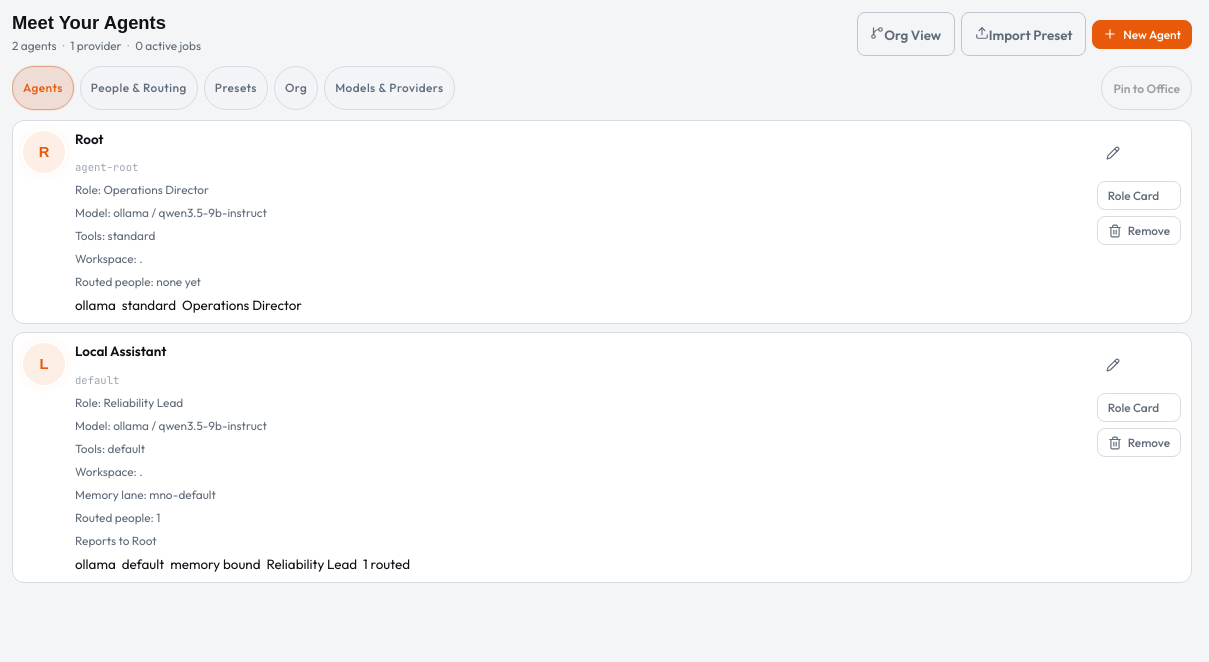
Test: TeamPage Trenches parity › stops removal before the agent changes when routing cannot be read
Click the 1st button "Remove". click: (1139, 230)
box: left=1097, top=216, right=1181, bottom=245
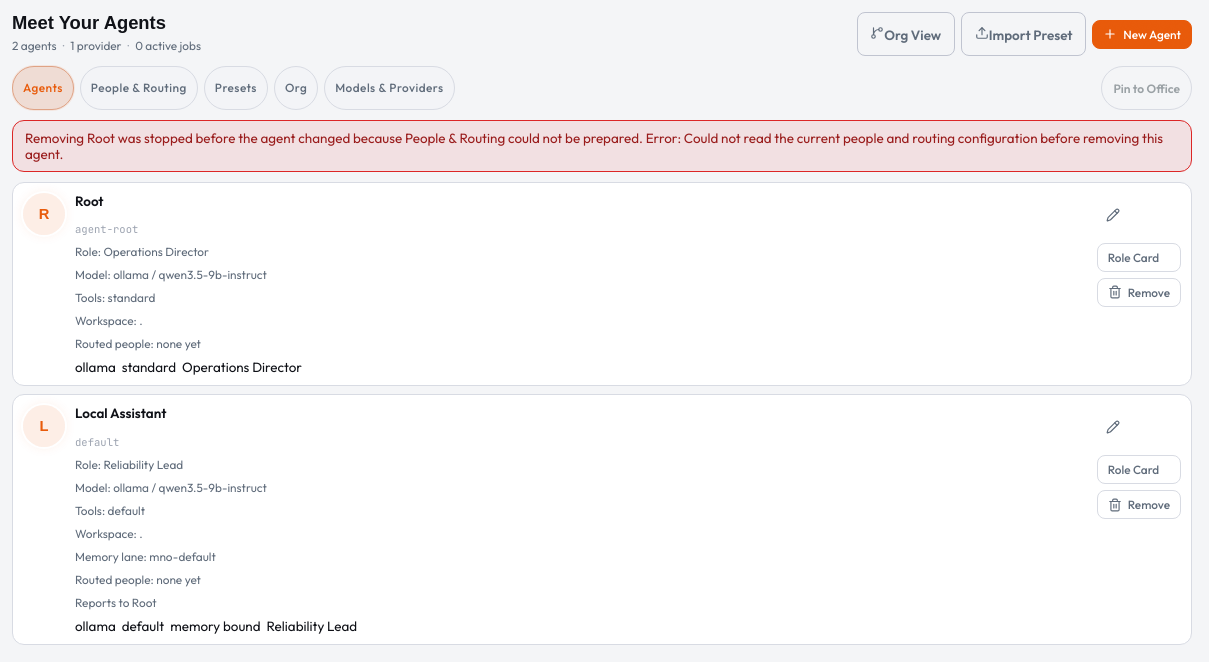
expect the text "was stopped before the agent changed" is shown: met, box left=25, top=130, right=1163, bottom=162
expect the text "Could not read the current people and routing configuration" is shown: met, box left=25, top=130, right=1163, bottom=162
